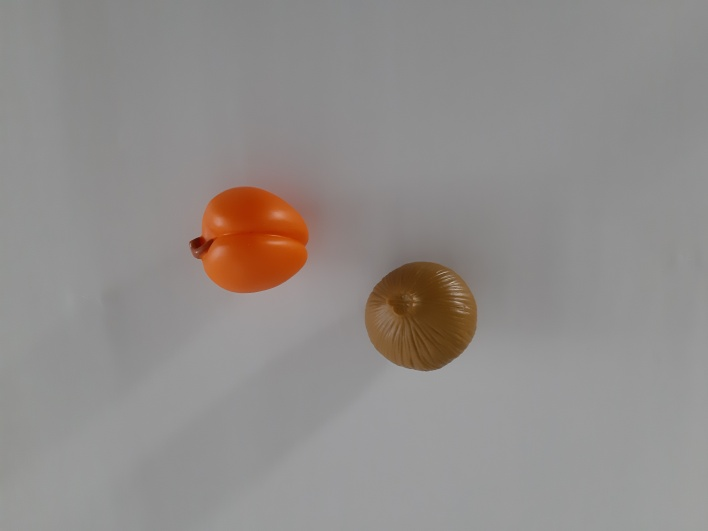apricot: (168, 171, 330, 309)
onion: (352, 247, 495, 388)
